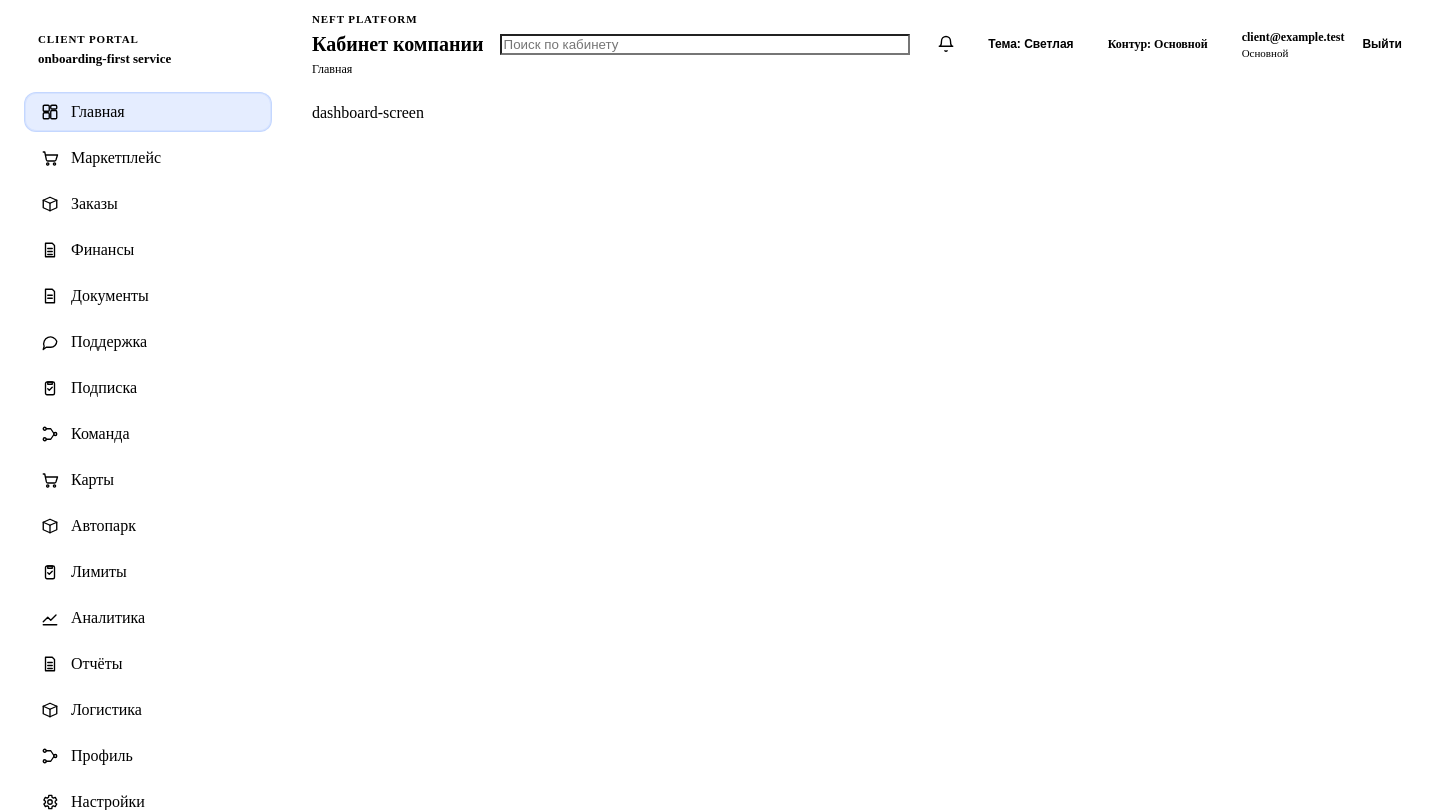
it: ClientLayout mode routing › exposes fleet routes from runtime workspace without a manual mode switcher
Click the link to "/fleet/groups". click: (88, 526)
box: [41,517,136,535]
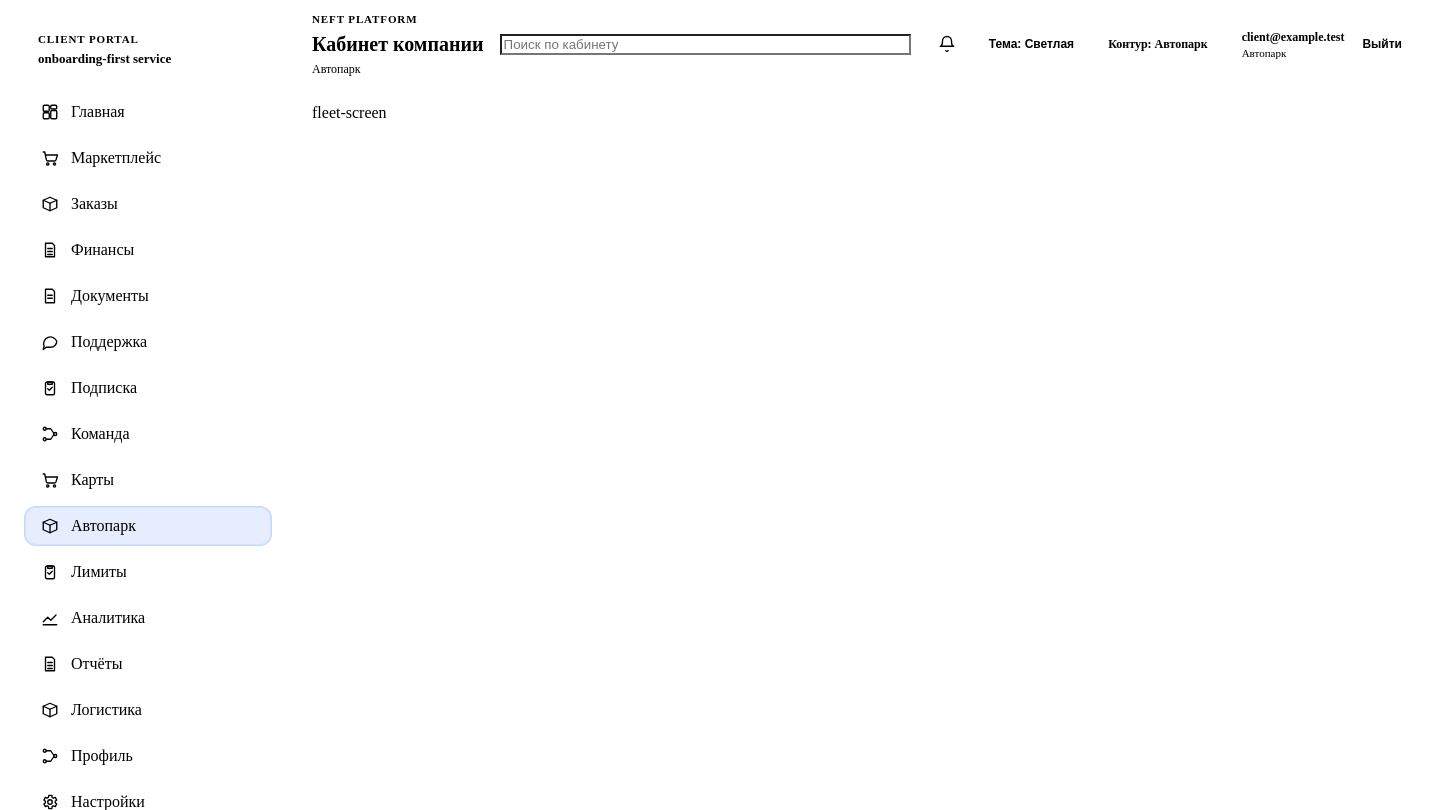
Result: the text "fleet-screen" is shown at [312,104,387,121]
